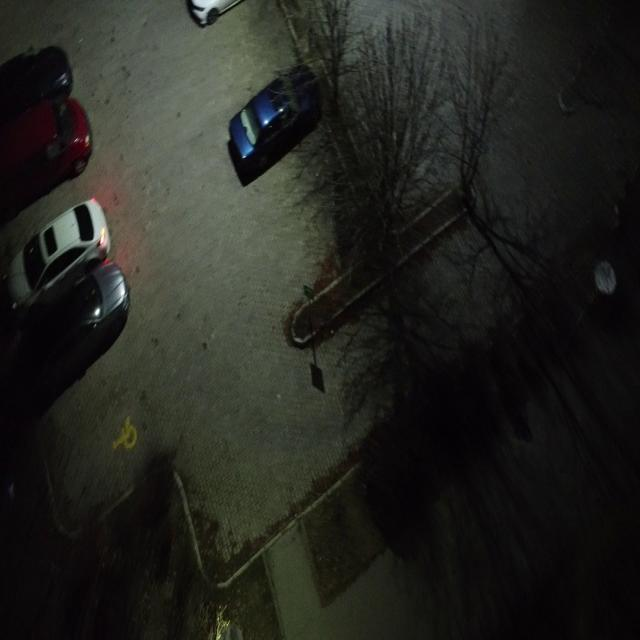vehicle: (20, 255, 132, 384), (0, 195, 111, 322), (0, 94, 94, 220), (226, 62, 323, 176), (0, 44, 75, 121), (187, 1, 246, 30)
